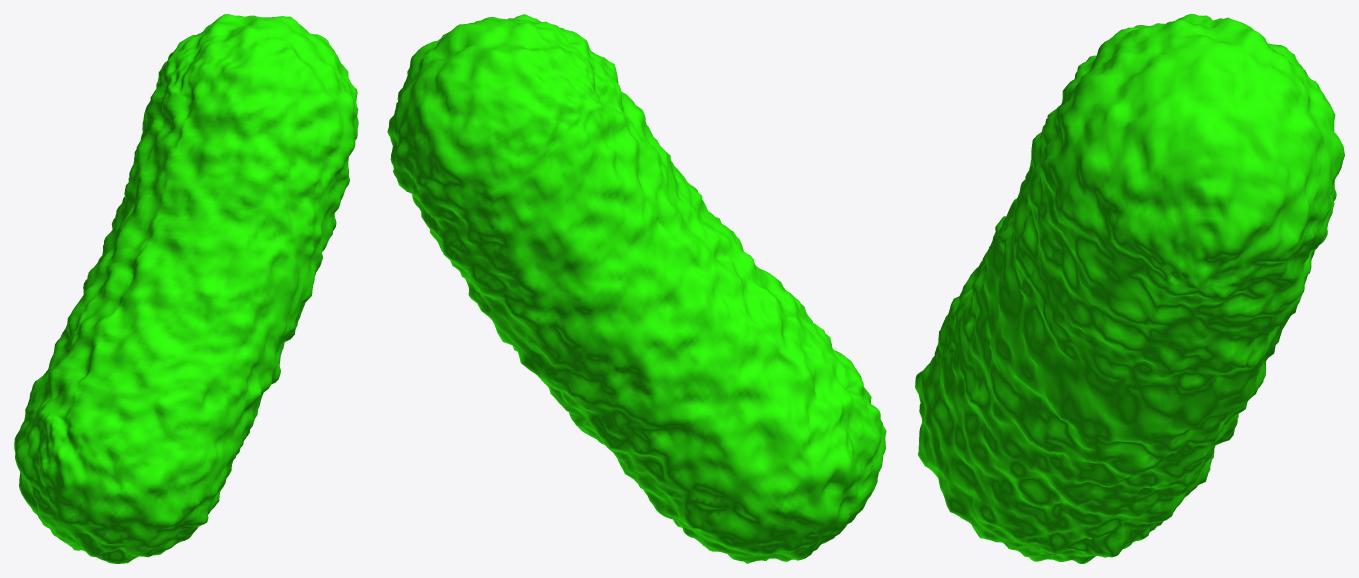
The model's file is coli.glb.
3 renders of one model, left to right at view 1: azimuth 30°, elevation 25°; view 2: azimuth 150°, elevation 25°; view 3: azimuth 270°, elevation 25°, orthographic. The views are drawn at different scales.
Visible parts, largest first — view 1: coli; view 2: coli; view 3: coli.
Boxes of the visible parts, x1=… form: coli: x1=14, y1=14, x2=358, y2=563; coli: x1=387, y1=14, x2=886, y2=563; coli: x1=915, y1=14, x2=1344, y2=563.
Size of the model in its own units: 2.87 by 3.44 by 2.09.
